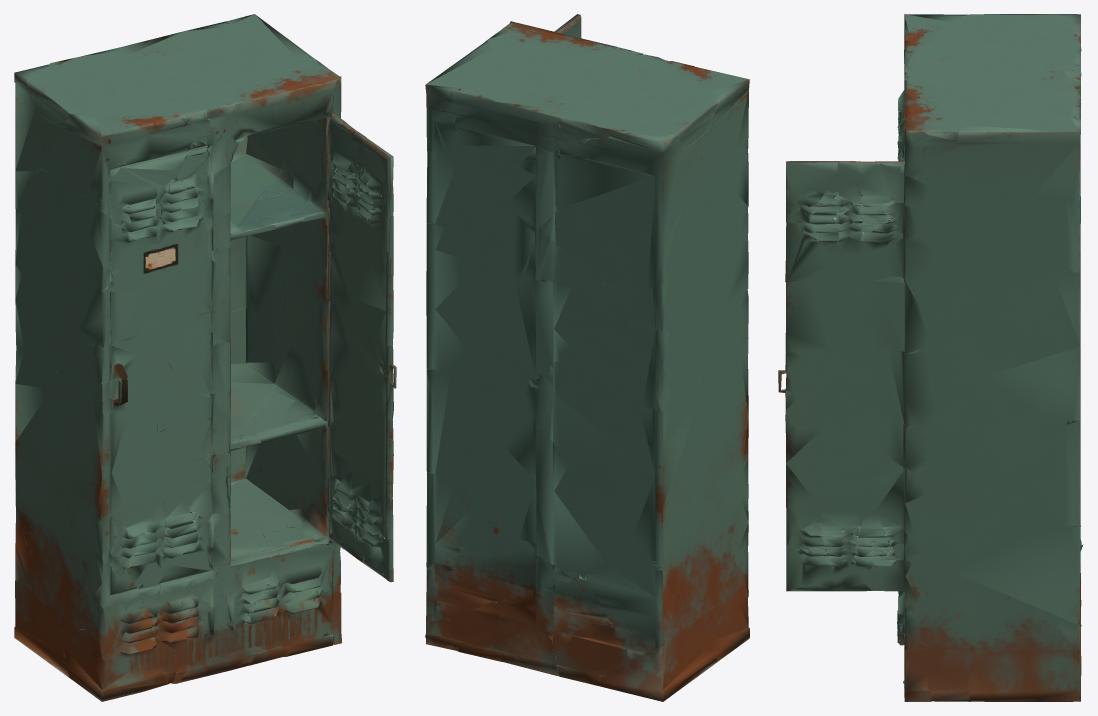
The model's file is Battered_workers_double_locker-game.glb.
3 renders of one model, left to right at view 1: azimuth 30°, elevation 25°; view 2: azimuth 150°, elevation 25°; view 3: azimuth 270°, elevation 25°, orthographic.
Parts seen in each view (by area): view 1: Mesh_0; view 2: Mesh_0; view 3: Mesh_0.
Boxes of the visible parts, bbox=[...] form: Mesh_0: bbox=[14, 14, 396, 701]; Mesh_0: bbox=[425, 14, 749, 701]; Mesh_0: bbox=[778, 14, 1083, 701].
Bounding box in the file's own units: 0.8466 × 1.91 × 0.922.
1 material, 1 textured.
